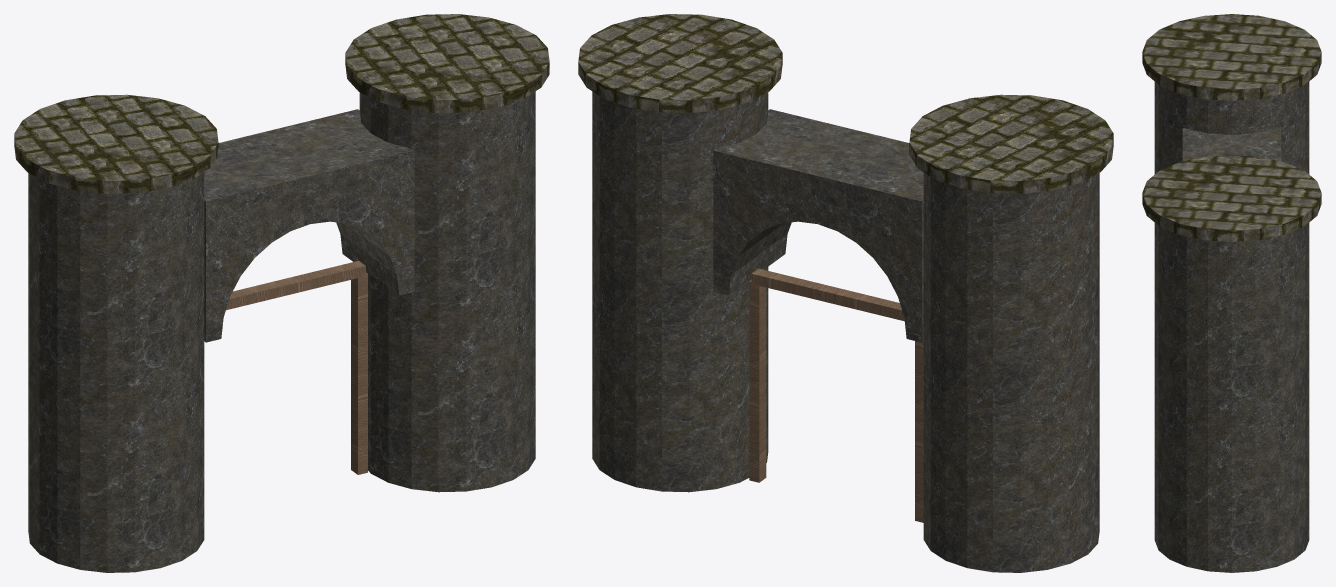
The model's file is gatehouse.glb.
3 renders of one model, left to right at view 1: azimuth 30°, elevation 25°; view 2: azimuth 150°, elevation 25°; view 3: azimuth 270°, elevation 25°, orthographic. The views are drawn at different scales.
Visible parts, largest first — view 1: gatehouse; view 2: gatehouse; view 3: gatehouse.
Boxes of the visible parts, x1,y1,x2,y2 form: gatehouse: [14, 14, 549, 572]; gatehouse: [578, 14, 1113, 572]; gatehouse: [1142, 14, 1321, 572].
Bounding box in the file's own units: 16.6 × 12.4 × 5.8.
3 materials, 3 textured.
